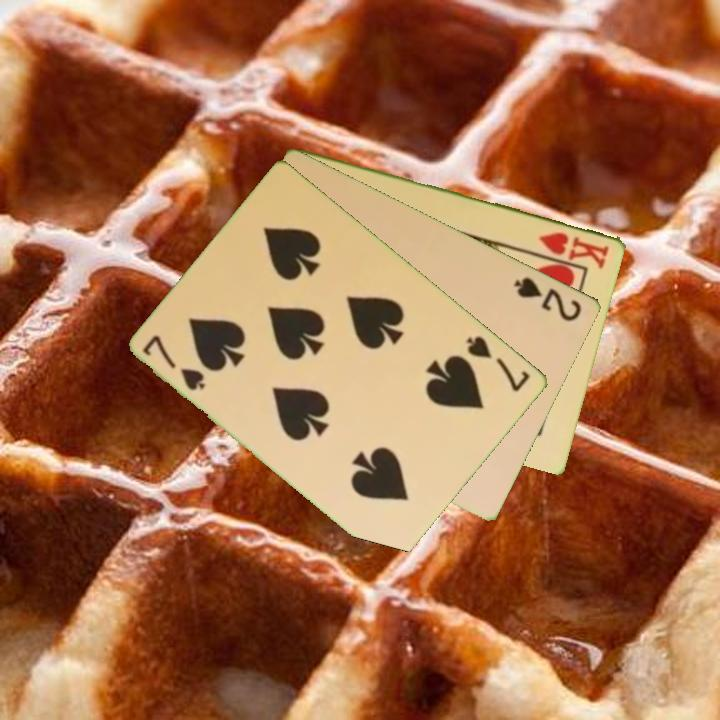2s: (511, 273, 585, 325)
7s: (139, 331, 210, 394), (463, 332, 533, 395)
Kh: (536, 228, 612, 271)
